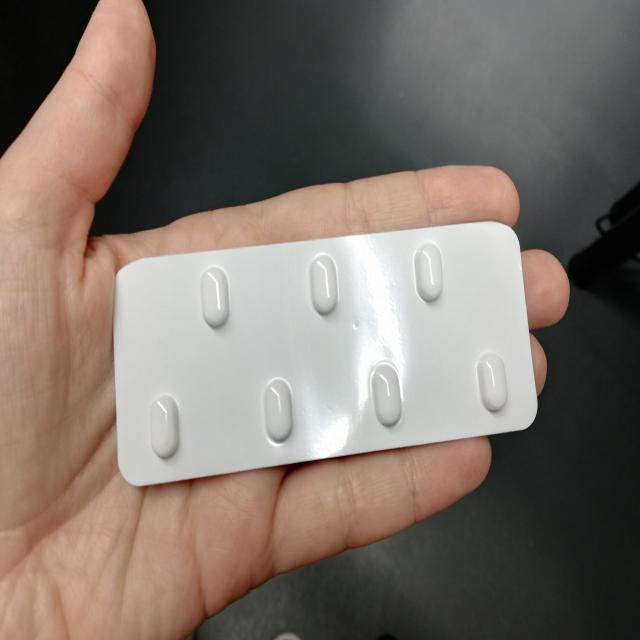Pill: (252, 363, 306, 452), (139, 380, 189, 464), (190, 257, 239, 339), (470, 346, 520, 426), (408, 235, 453, 315), (362, 352, 407, 431), (303, 248, 343, 322)
